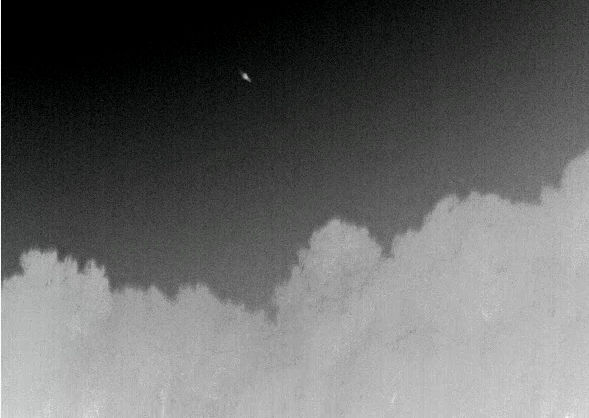dim target: (241, 73, 252, 83)
